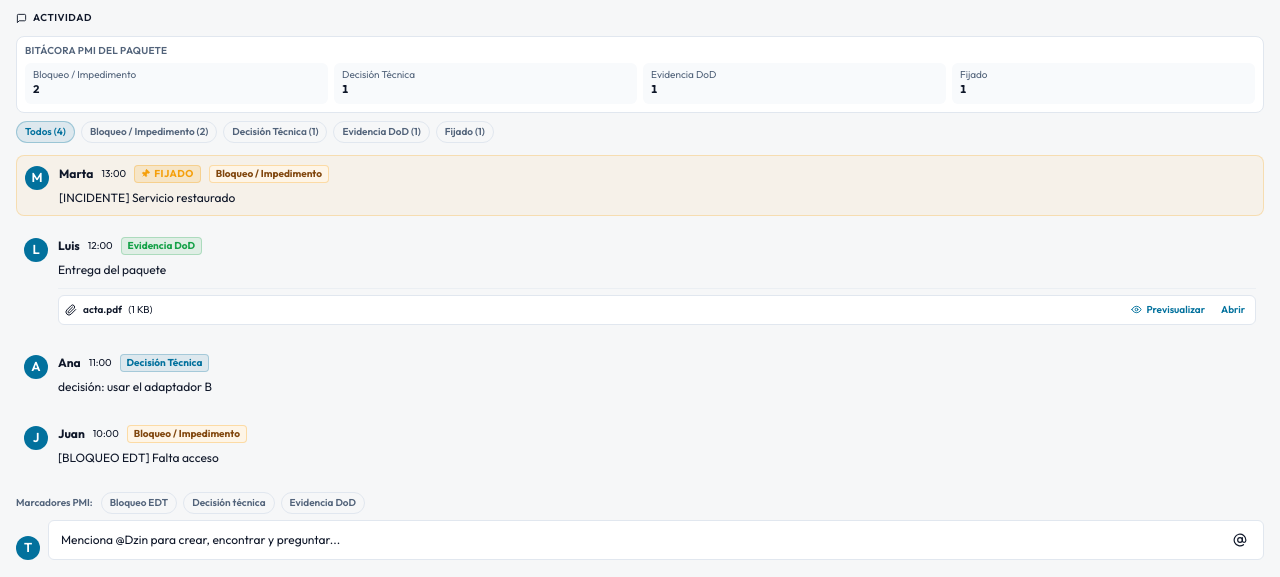
Test: TaskCommentSection › summarizes PMI categories, badges comments and filters by category
Check: the element with test id "task-comments-pmi-summary" is shown, box [16, 36, 1264, 112]
Check: the text with test id "task-comments-pmi-count-blocker" reads "2", box [33, 82, 40, 96]
Step 1. Click the button "Decisión Técnica (1)" → (275, 132), box [223, 120, 328, 142]
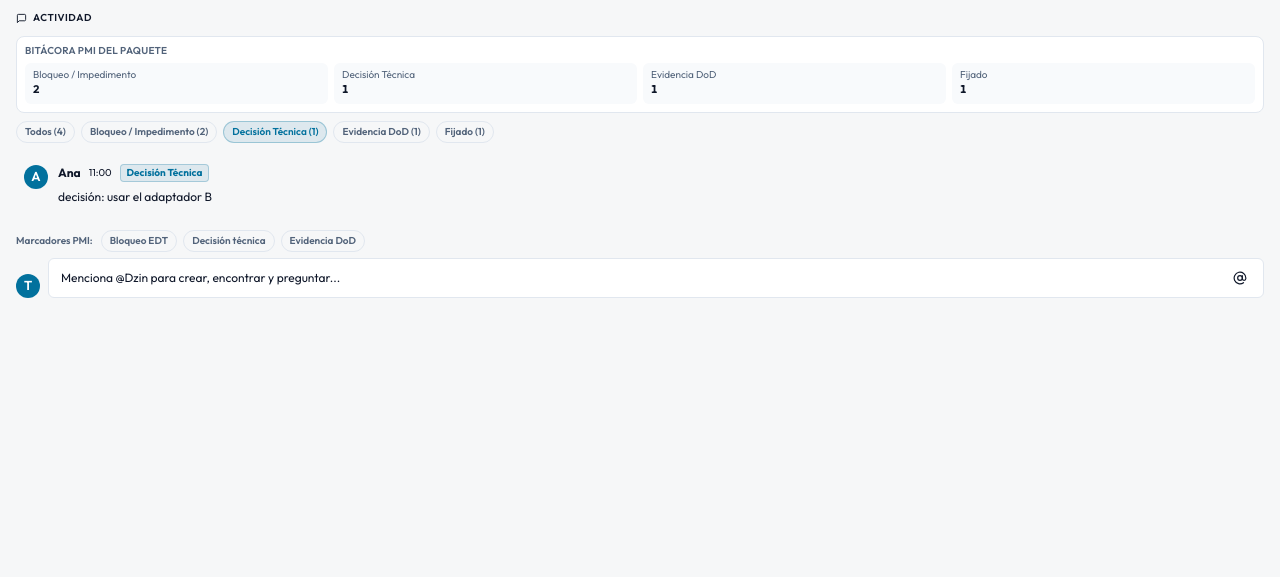
Check: the text "decisión: usar el adaptador B" is shown, box [58, 188, 212, 204]
Check: the text "[BLOQUEO EDT] Falta acceso" is gone
Check: the text "Entrega del paquete" is gone
